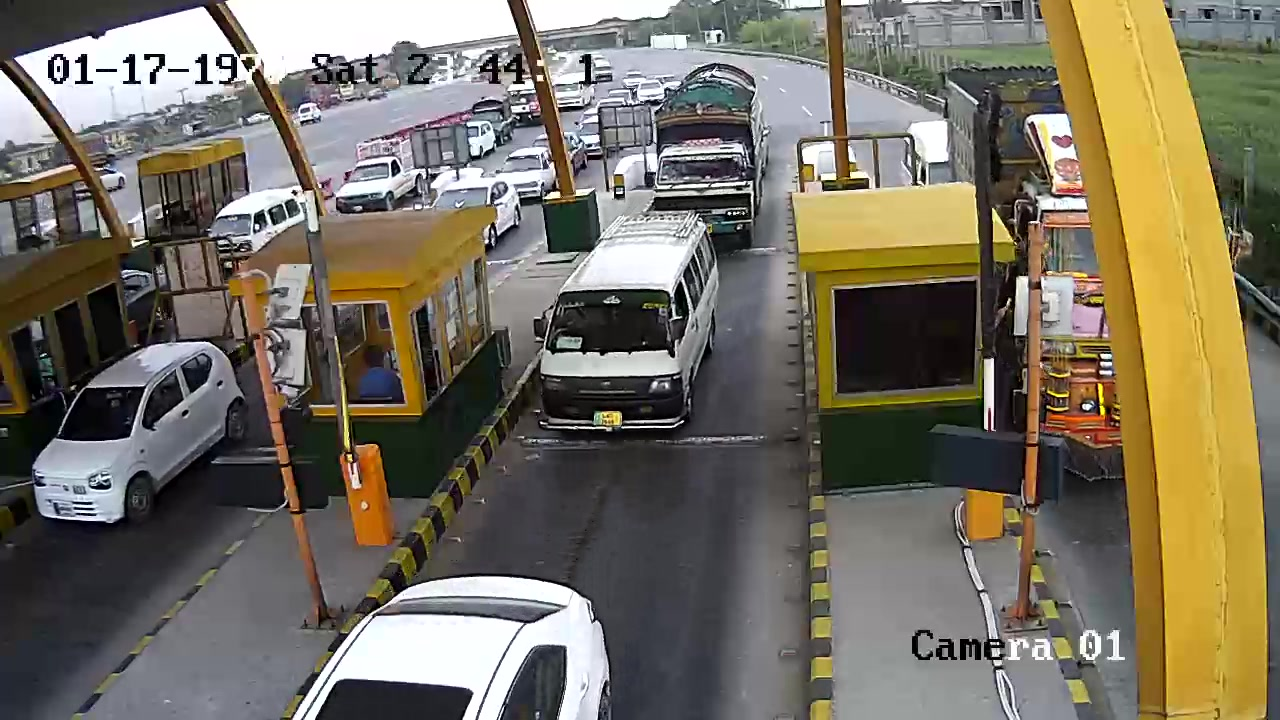F3: (522, 209, 724, 446)
